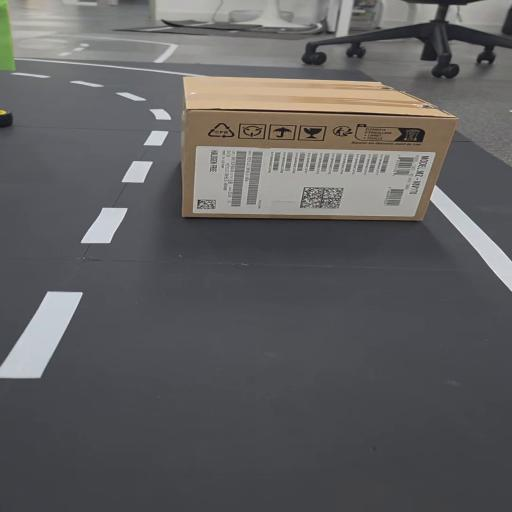Box: (171, 70, 447, 236)
